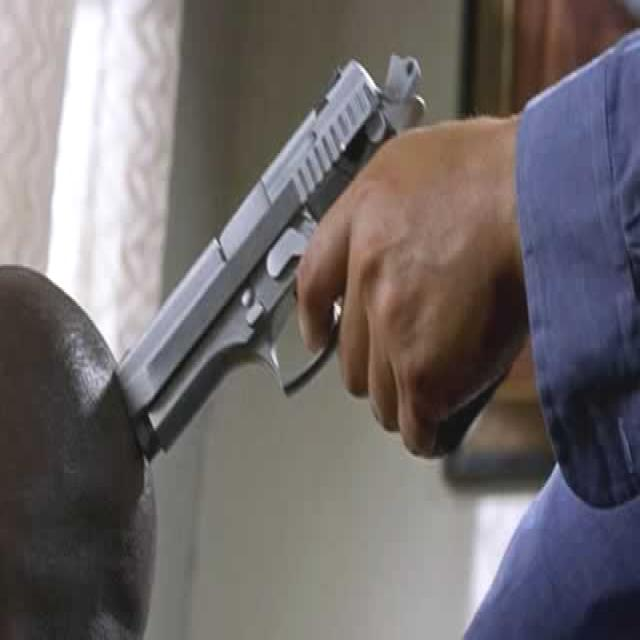pistol: (116, 47, 516, 504)
